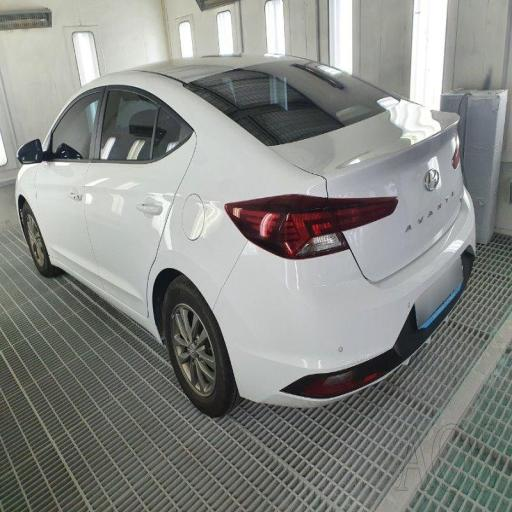scratch: (60, 140, 243, 287), (271, 218, 326, 319)
